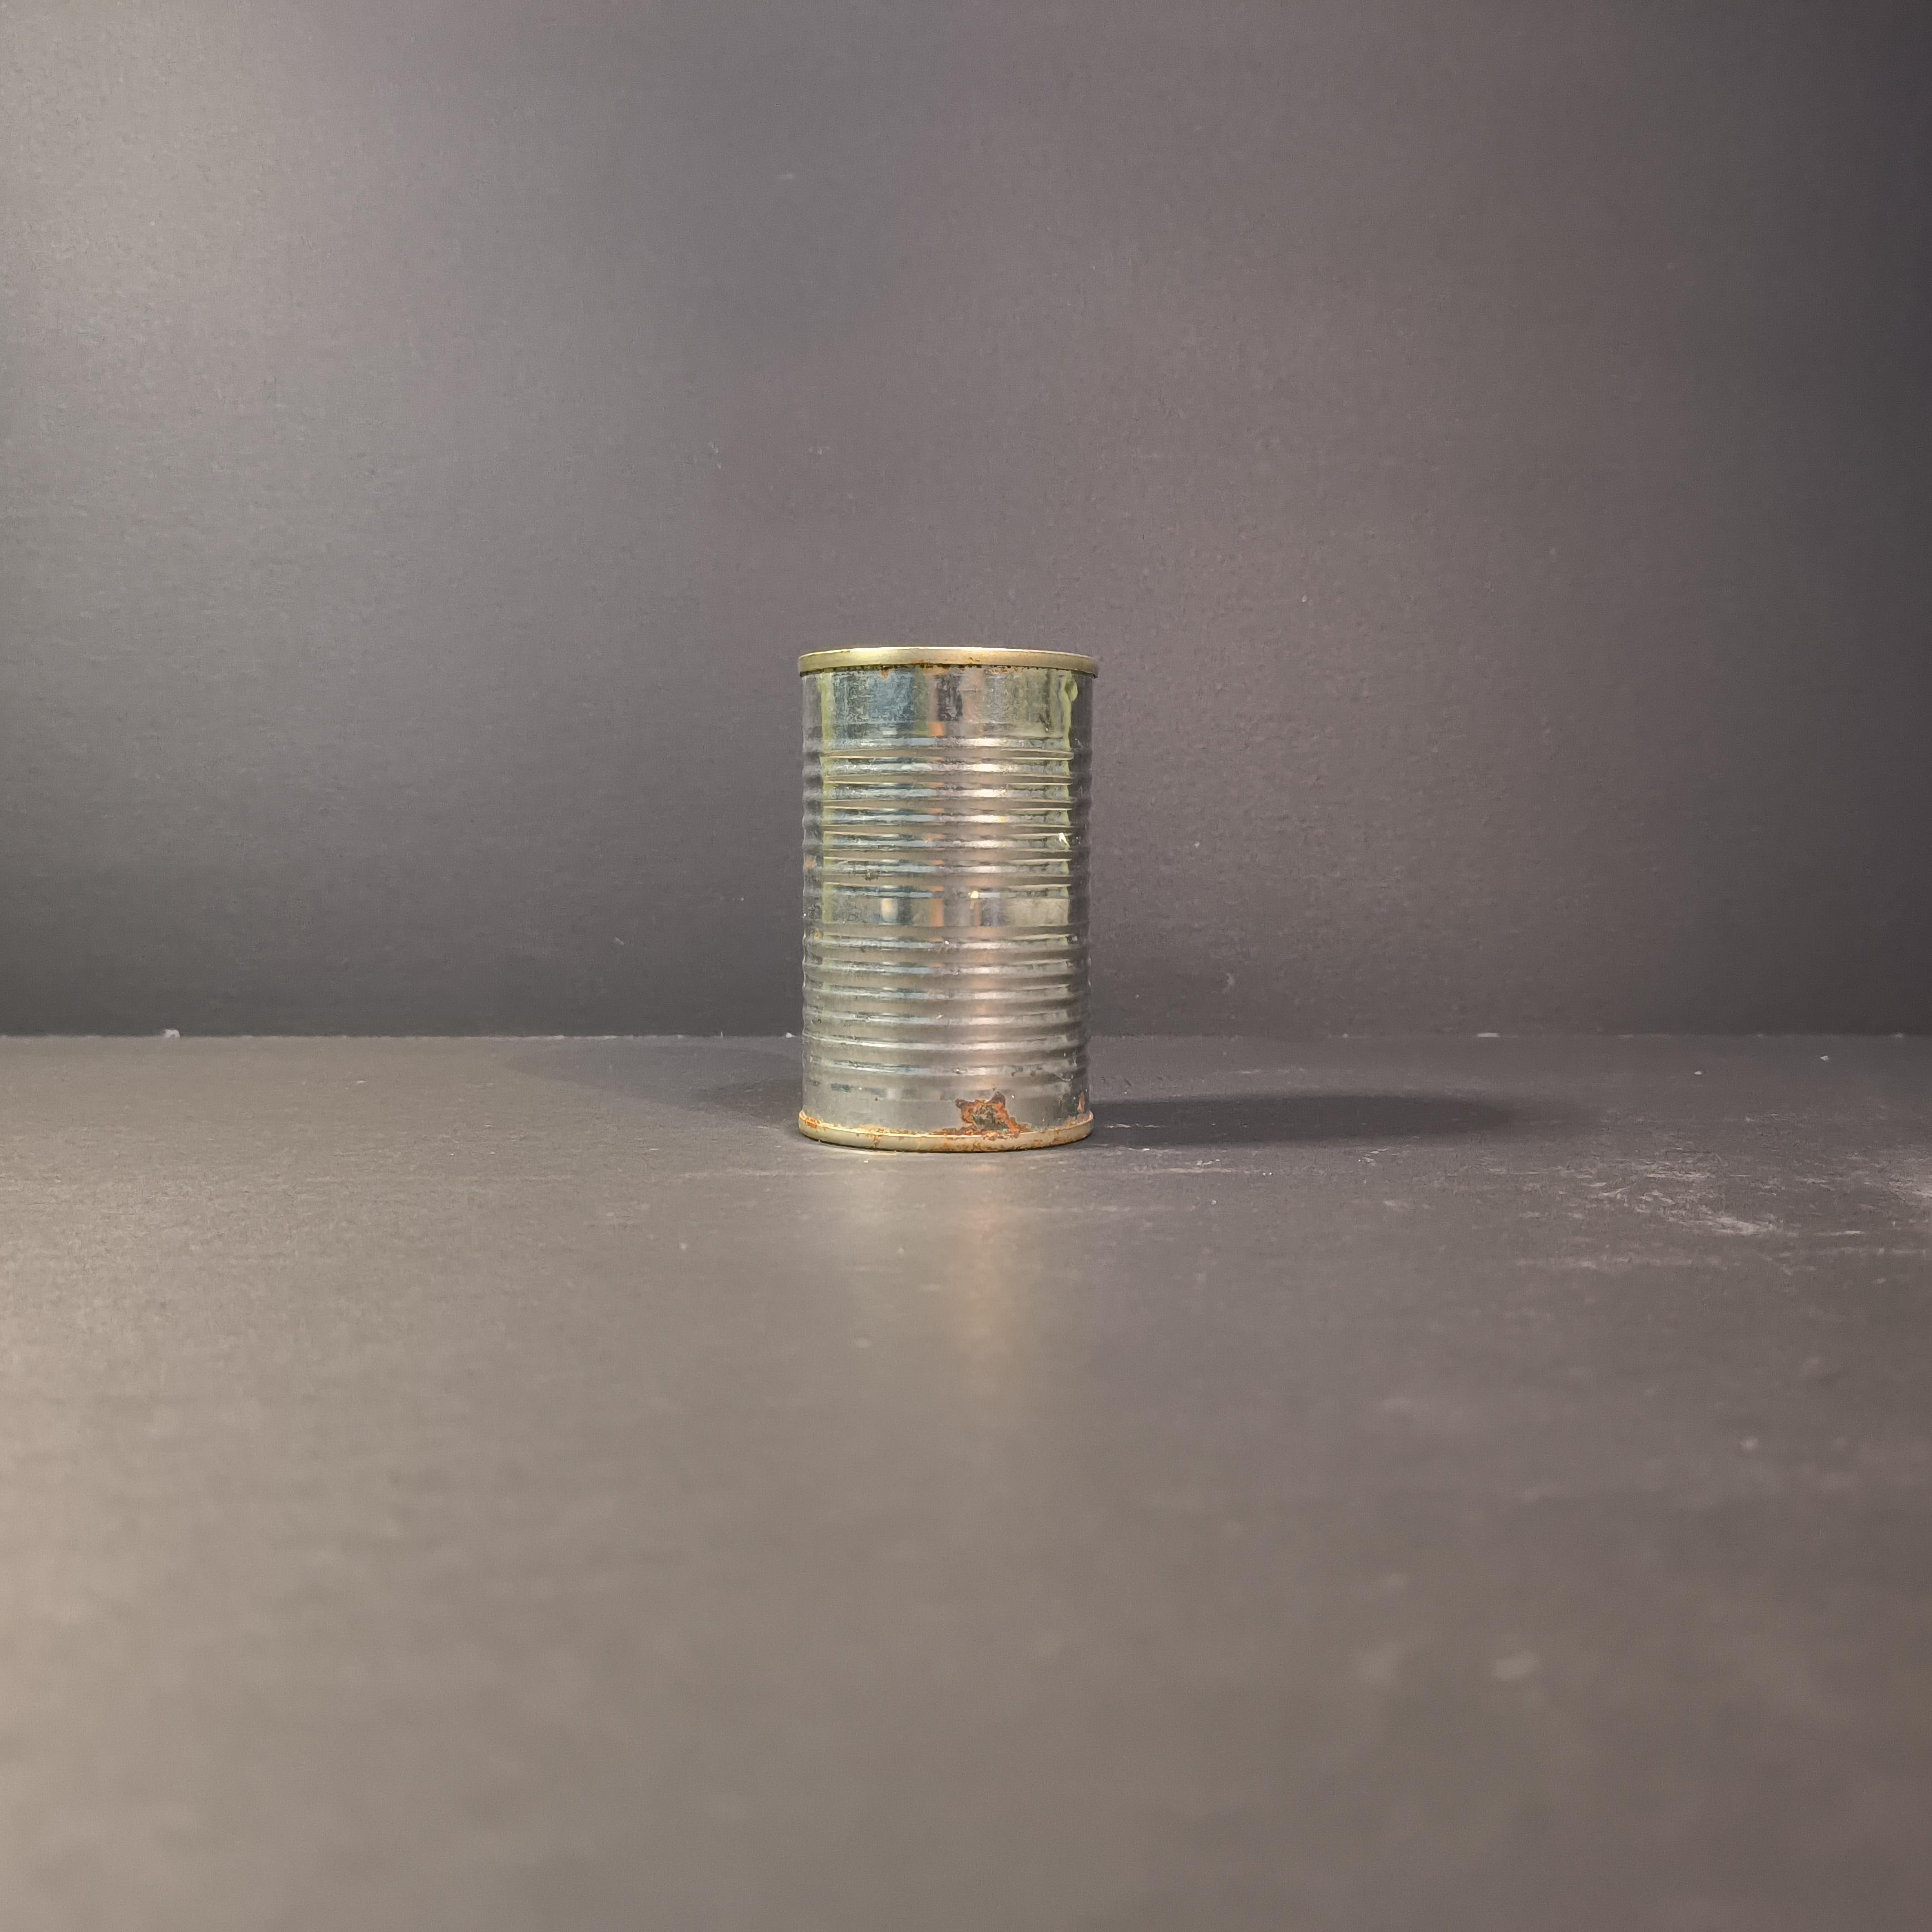Rusted: (796, 623, 1113, 1163)
